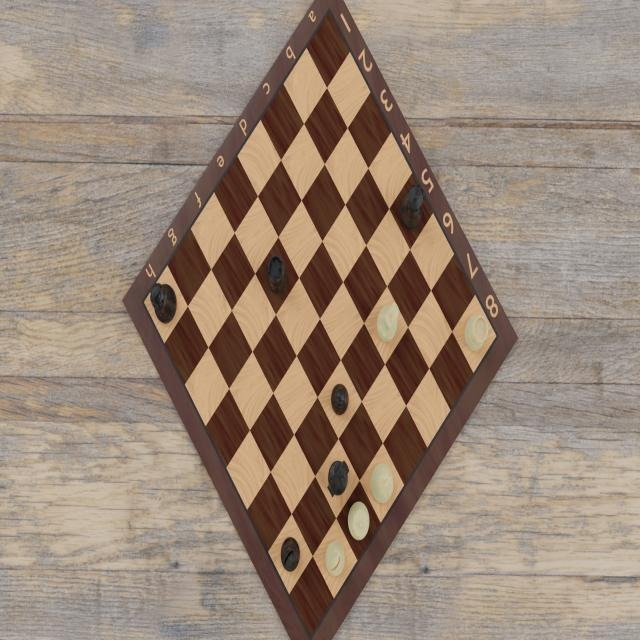black-bishop: (278, 534, 301, 573)
black-king: (150, 282, 181, 330)
black-knight: (325, 455, 351, 500)
black-pawn: (329, 379, 351, 417)
black-queen: (400, 180, 428, 234)
black-rook: (264, 252, 289, 296)
white-bishop: (323, 539, 346, 581)
white-king: (367, 459, 397, 510)
white-knight: (375, 300, 400, 348)
white-queen: (345, 497, 372, 545)
white-rook: (464, 310, 492, 359)
